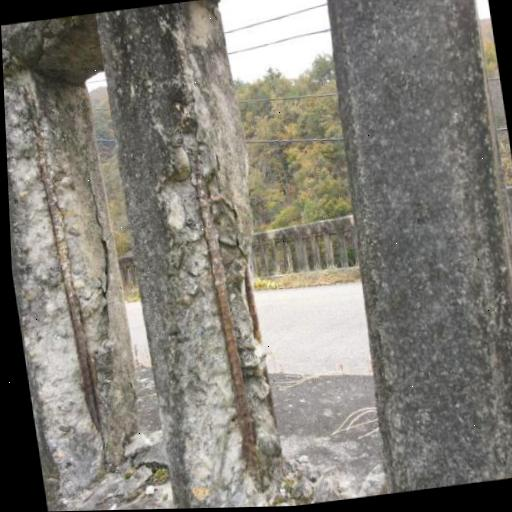exposed_rebar: (195, 153, 261, 489), (244, 265, 262, 343)
